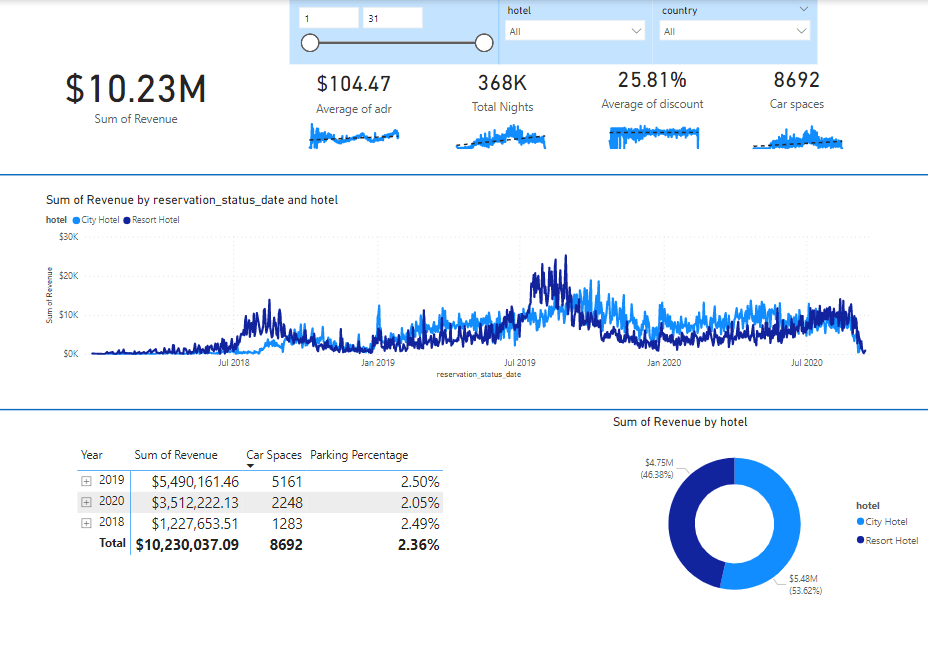

The dashboard page shown, as its layout file describes it:
{"tool":"powerbi","page":{"name":"Page 1","canvas":[1280,920],"ordinal":0},"visuals":[{"type":"shape","box":[0,229.8,1279.8,22.7],"z":0},{"type":"shape","box":[0,558.2,1279.8,12.9],"z":1000},{"type":"card","fields":{"Values":["Sum(hote revenue.Revenue)"]},"box":[72.8,71.2,229.8,108.4],"z":2000,"group":"g1"},{"type":"card","fields":{"Values":["Sum(hote revenue.required_car_parking_spaces)"]},"box":[975.6,43.7,244.3,148.9],"z":2000},{"type":"card","fields":{"Values":["Avg(hote revenue.adr)"]},"box":[341.4,50.1,292,148],"z":3000,"group":"g1"},{"type":"lineChart","fields":{"Y":["Sum(hote revenue.Revenue)"],"Category":["hote revenue.reservation_status_date"],"Series":["hote revenue.hotel"]},"box":[58.2,263.7,1161.7,262.1],"z":3000},{"type":"card","fields":{"Values":["hote revenue.Total Nights"]},"box":[545.2,48.5,292.9,148.9],"z":4000,"group":"g1"},{"type":"group","id":"g1","title":"Group 1","box":[72.8,43.7,940.4,154.4],"z":4000},{"type":"slicer","fields":{"Values":["hote revenue.hotel"]},"box":[686.4,0,212.9,88.9],"z":5000},{"type":"card","fields":{"Values":["Avg(hote revenue.discount)"]},"box":[786.6,43.7,226.5,148.9],"z":5000,"group":"g1"},{"type":"lineChart","fields":{"Category":["hote revenue.reservation_status_date"],"Y":["Avg(hote revenue.adr)"]},"box":[411,148.9,152.1,61.5],"z":6000},{"type":"slicer","fields":{"Values":["hote revenue.country"]},"box":[899.3,0,227.4,88.9],"z":7000},{"type":"lineChart","fields":{"Category":["hote revenue.reservation_status_date"],"Y":["hote revenue.Total Nights"]},"box":[614.8,148.9,152.1,61.5],"z":8000},{"type":"lineChart","fields":{"Category":["hote revenue.reservation_status_date"],"Y":["Avg(hote revenue.discount)"]},"box":[825.2,148.9,152.1,61.5],"z":9000},{"type":"lineChart","fields":{"Category":["hote revenue.reservation_status_date"],"Y":["Sum(hote revenue.required_car_parking_spaces)"]},"box":[1022.6,148.9,152.1,61.5],"z":9001},{"type":"donutChart","fields":{"Category":["hote revenue.hotel"],"Y":["Sum(hote revenue.Revenue)"]},"box":[839.4,570.6,440.4,283.2],"z":9002},{"type":"pivotTable","fields":{"Rows":["hote revenue.reservation_status_date.Variation.Date Hierarchy.Year","hote revenue.hotel"],"Values":["Sum(hote revenue.Revenue)","Sum(hote revenue.required_car_parking_spaces)","hote revenue.Parking Percentage"]},"box":[101.3,609.9,765,247],"z":9003},{"type":"slicer","fields":{"Values":["hote revenue.reservation_status_date.Variation.Date Hierarchy.Day"]},"box":[399,0,289.4,88.9],"z":9004}]}

Visuals, with their boxes in screenshot pixels (x1, y1, x2, y2), scaled from the page's 1280x920 canvas onto the 928x666 screenshot:
shape: [left=0, top=166, right=927, bottom=183]
shape: [left=0, top=404, right=927, bottom=413]
card - Sum(hote revenue.Revenue): [left=53, top=52, right=219, bottom=130]
card - Sum(hote revenue.required_car_parking_spaces): [left=707, top=32, right=884, bottom=139]
card - Avg(hote revenue.adr): [left=248, top=36, right=459, bottom=143]
lineChart - Sum(hote revenue.Revenue) x hote revenue.reservation_status_date: [left=42, top=191, right=884, bottom=381]
card - hote revenue.Total Nights: [left=395, top=35, right=608, bottom=143]
"Group 1" group: [left=53, top=32, right=735, bottom=143]
slicer - hote revenue.hotel: [left=498, top=0, right=652, bottom=64]
card - Avg(hote revenue.discount): [left=570, top=32, right=734, bottom=139]
lineChart - hote revenue.reservation_status_date x Avg(hote revenue.adr): [left=298, top=108, right=408, bottom=152]
slicer - hote revenue.country: [left=652, top=0, right=817, bottom=64]
lineChart - hote revenue.reservation_status_date x hote revenue.Total Nights: [left=446, top=108, right=556, bottom=152]
lineChart - hote revenue.reservation_status_date x Avg(hote revenue.discount): [left=598, top=108, right=709, bottom=152]
lineChart - hote revenue.reservation_status_date x Sum(hote revenue.required_car_parking_spaces): [left=741, top=108, right=852, bottom=152]
donutChart - hote revenue.hotel x Sum(hote revenue.Revenue): [left=609, top=413, right=927, bottom=618]
pivotTable - hote revenue.reservation_status_date.Variation.Date Hierarchy.Year x hote revenue.hotel: [left=73, top=442, right=628, bottom=620]
slicer - hote revenue.reservation_status_date.Variation.Date Hierarchy.Day: [left=289, top=0, right=499, bottom=64]
